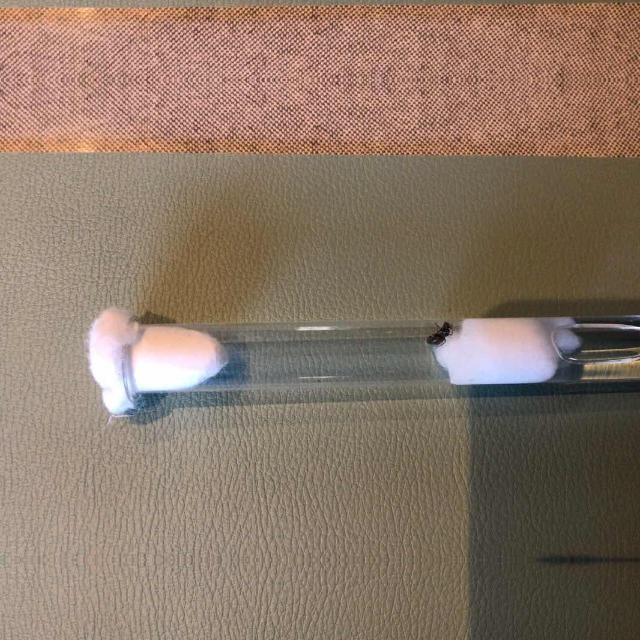Lasius: (424, 315, 452, 345)
